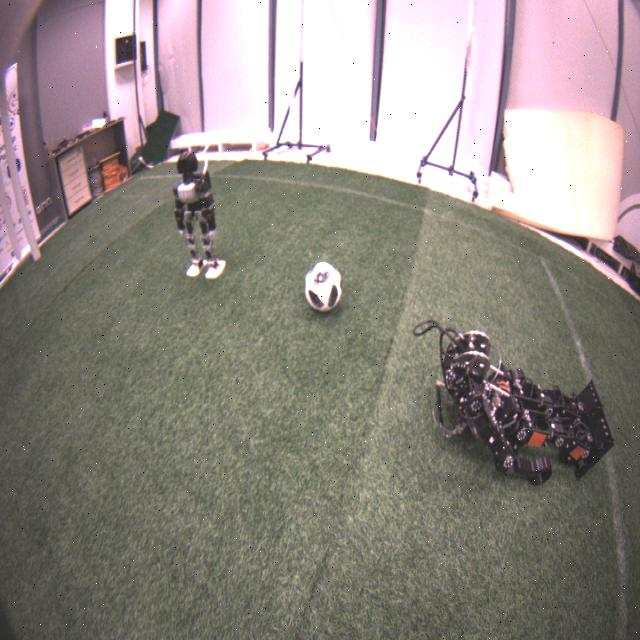ball: (303, 261, 345, 311)
goalpost: (0, 70, 42, 262)
